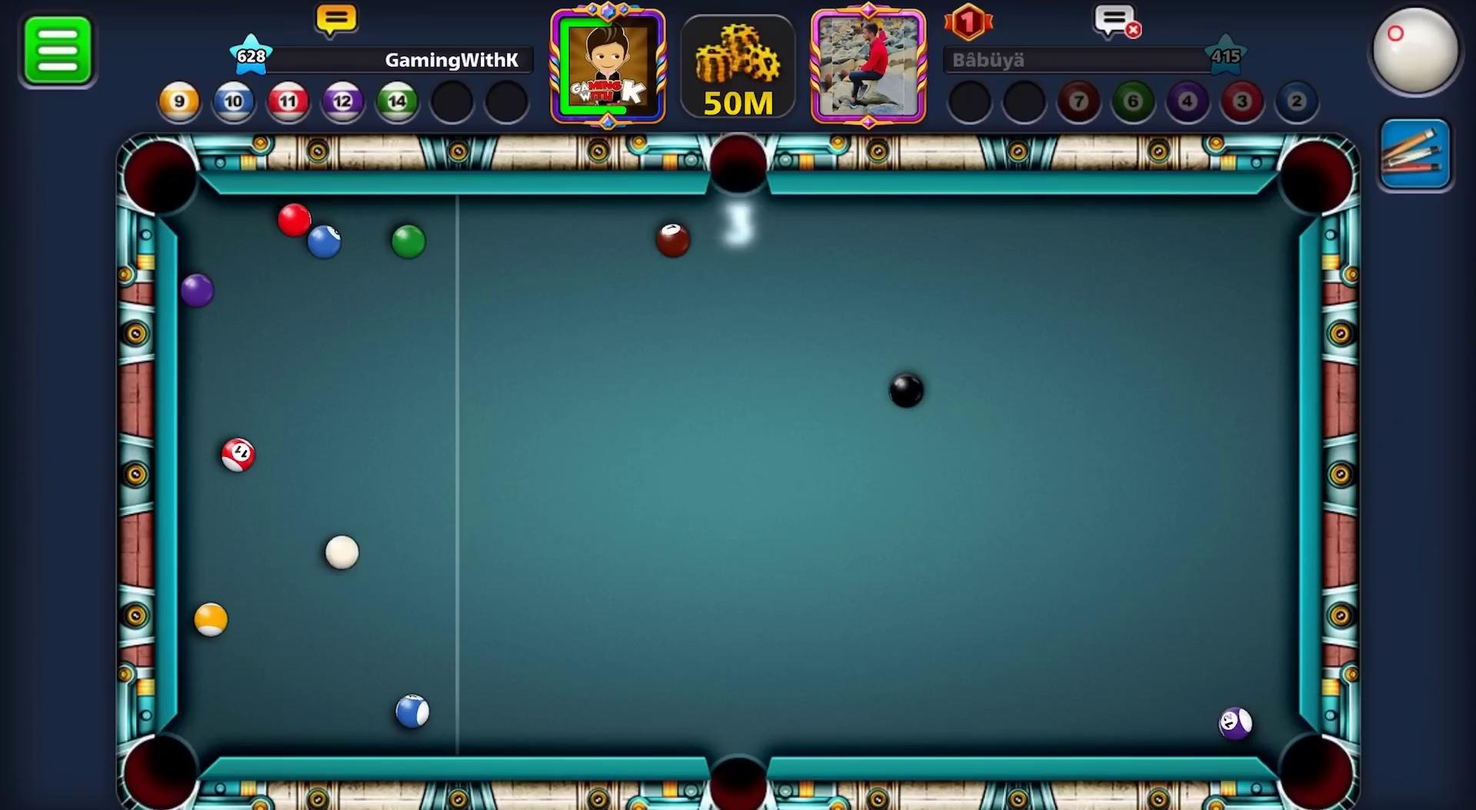Ball: (271, 195, 319, 245), (296, 222, 347, 268), (645, 217, 695, 262), (1212, 702, 1260, 745), (176, 265, 217, 314), (884, 369, 928, 413), (216, 433, 255, 473), (391, 692, 431, 731), (387, 222, 425, 259), (192, 600, 228, 637)
Hole: (111, 123, 221, 233), (104, 718, 220, 809), (1256, 715, 1366, 809), (1264, 127, 1364, 228), (692, 122, 785, 214), (691, 739, 784, 809)
Play_Area: (177, 195, 1298, 757)
Spin: (1362, 0, 1475, 111)
White: (316, 532, 364, 575)
